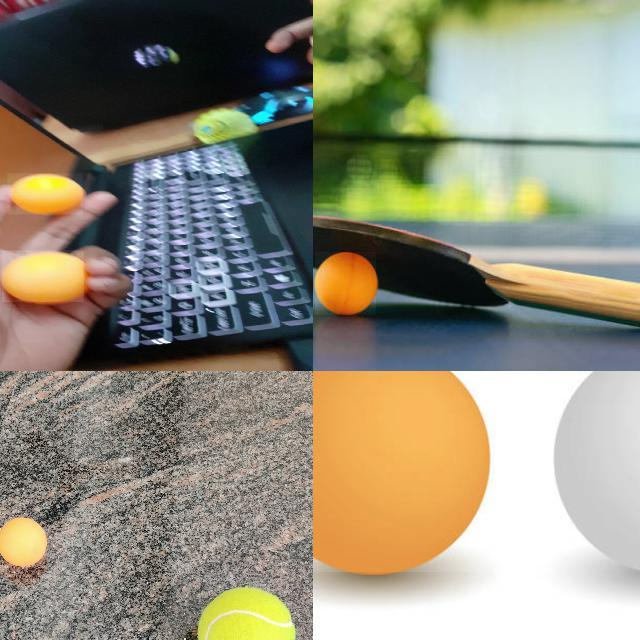ping-pong-ball: (313, 371, 492, 573), (2, 250, 85, 302), (314, 252, 378, 316), (7, 173, 84, 214), (0, 517, 47, 569)
